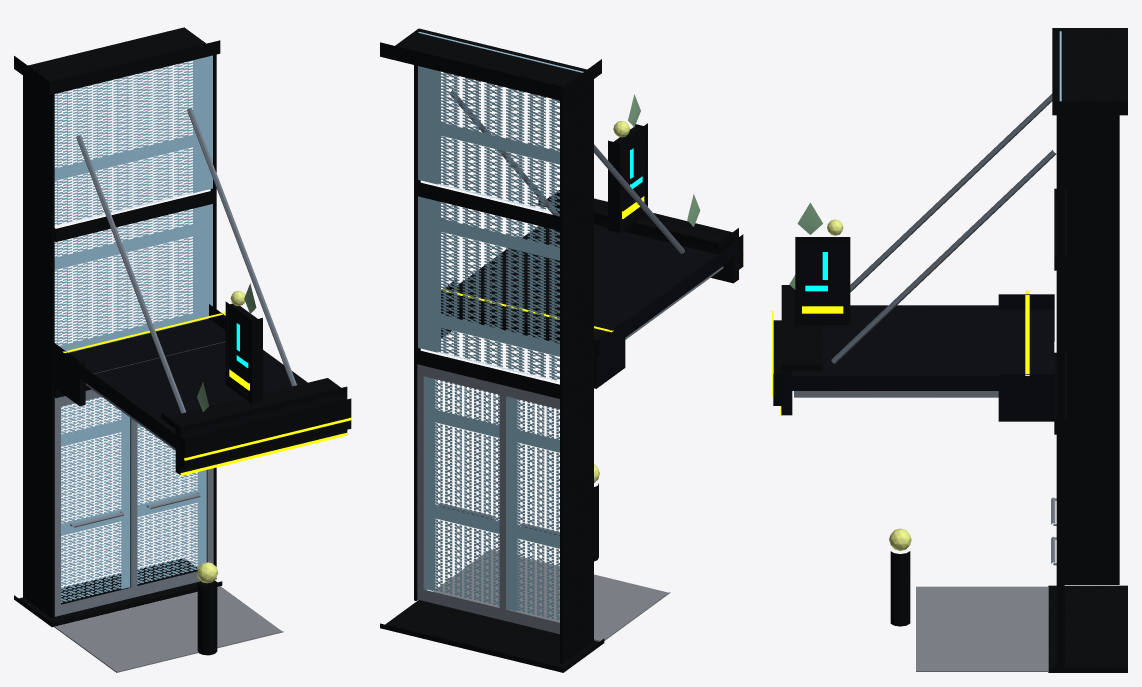
The model's file is tt_entrance_bay_half.glb.
3 views of the same model, side by side, from view 1: azimuth 30°, elevation 25°; view 2: azimuth 150°, elevation 25°; view 3: azimuth 270°, elevation 25° (orthographic). The views are drawn at different scales.
Parts seen in each view (by area): view 1: Frame, Upper_Scissor_01, Upper_Scissor_00, Canopy, Door_Scissor_00, Threshold_Mat, Fascia_Gunmetal, Door_Scissor_01, Door_Stiles, Tie_Rods, Fascia_Slate, Blade_Frame (+3 smaller); view 2: Frame, Upper_Scissor_00, Canopy, Upper_Scissor_01, Door_Scissor_01, Door_Scissor_00, Door_Stiles, Threshold_Mat, Fascia_Gunmetal, Blade_Frame, Blade_Core, Tie_Rods (+1 smaller); view 3: Frame, Canopy, Threshold_Mat, Tie_Rods, Blade_Core, Fascia_Gunmetal, Ball_Bollards, Canopy_Soffit, Blade_Frame, Court_Line_LED.
Boxes of the visible parts, x1=… form: Frame: x1=14, y1=27, x2=222, y2=627; Upper_Scissor_01: x1=54, y1=55, x2=212, y2=224; Upper_Scissor_00: x1=54, y1=204, x2=212, y2=352; Canopy: x1=50, y1=304, x2=307, y2=448; Door_Scissor_00: x1=61, y1=397, x2=129, y2=602; Threshold_Mat: x1=53, y1=586, x2=283, y2=672; Fascia_Gunmetal: x1=161, y1=378, x2=351, y2=469; Door_Scissor_01: x1=137, y1=423, x2=206, y2=584; Door_Stiles: x1=54, y1=389, x2=213, y2=616; Tie_Rods: x1=76, y1=108, x2=296, y2=413; Fascia_Slate: x1=175, y1=392, x2=347, y2=474; Blade_Frame: x1=225, y1=301, x2=262, y2=403; Frame: x1=380, y1=28, x2=604, y2=672; Upper_Scissor_00: x1=418, y1=196, x2=559, y2=381; Canopy: x1=441, y1=224, x2=733, y2=388; Upper_Scissor_01: x1=418, y1=32, x2=583, y2=212; Door_Scissor_01: x1=425, y1=376, x2=499, y2=605; Door_Scissor_00: x1=507, y1=396, x2=559, y2=620; Door_Stiles: x1=417, y1=364, x2=559, y2=634; Threshold_Mat: x1=433, y1=549, x2=670, y2=641; Fascia_Gunmetal: x1=538, y1=190, x2=743, y2=269; Blade_Frame: x1=608, y1=123, x2=647, y2=232; Blade_Core: x1=621, y1=130, x2=645, y2=225; Tie_Rods: x1=450, y1=89, x2=684, y2=253; Frame: x1=1048, y1=28, x2=1127, y2=672; Canopy: x1=791, y1=294, x2=1054, y2=421; Threshold_Mat: x1=916, y1=586, x2=1047, y2=671; Tie_Rods: x1=831, y1=93, x2=1056, y2=363; Blade_Core: x1=798, y1=242, x2=847, y2=320; Fascia_Gunmetal: x1=773, y1=285, x2=822, y2=405; Ball_Bollards: x1=890, y1=551, x2=910, y2=626; Canopy_Soffit: x1=794, y1=391, x2=998, y2=397; Blade_Frame: x1=795, y1=237, x2=850, y2=324; Court_Line_LED: x1=772, y1=290, x2=1029, y2=415.
Size of what is drawn, in the model's own units: 2 by 6.1 by 3.44.
10 materials, 5 textured.
